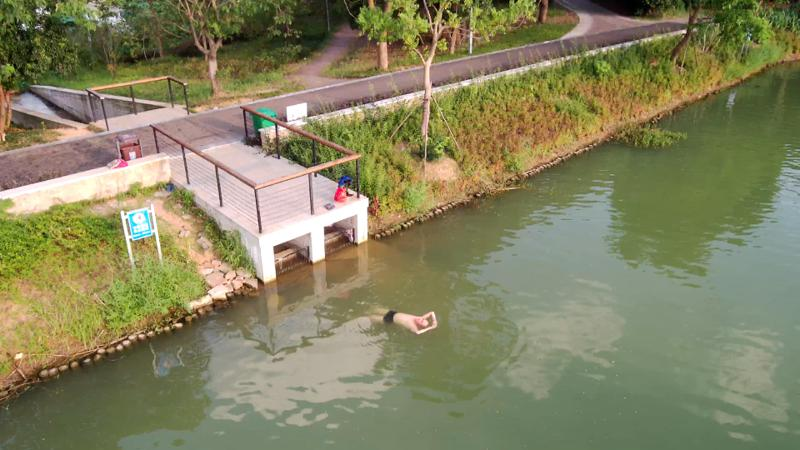swimmers: (366, 306, 438, 336)
